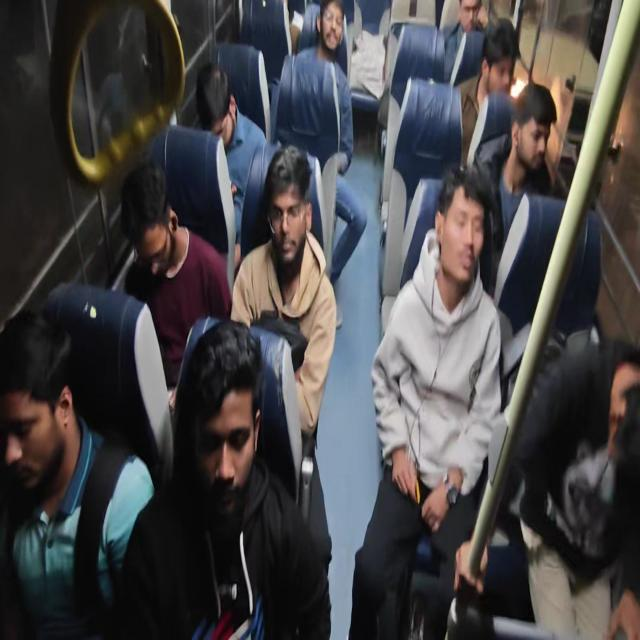person: (177, 352, 273, 546), (260, 106, 337, 281), (0, 339, 65, 477), (421, 184, 489, 307), (598, 339, 640, 506), (122, 181, 189, 280), (471, 30, 525, 118), (516, 74, 558, 167), (202, 61, 241, 143), (311, 0, 356, 66), (453, 0, 483, 37)
